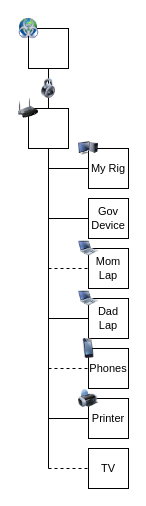
Image size: 146x506. Some labels were removed from this diagram. Here are the shapes that lost their labels. From the top down, the box of each, then its label:
(28, 28, 68, 68): Net
(28, 108, 68, 148): Router
